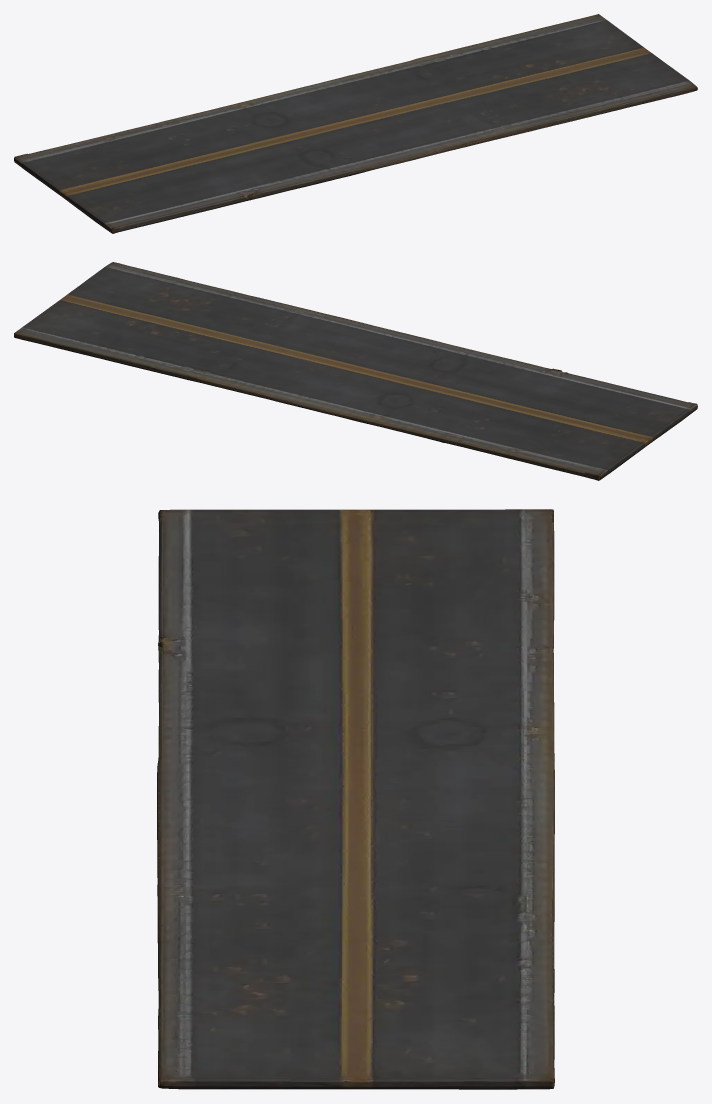
The model's file is road_straight.glb.
3 views of the same model, one above another, from view 1: azimuth 30°, elevation 25°; view 2: azimuth 150°, elevation 25°; view 3: azimuth 270°, elevation 25° (orthographic). The views are drawn at different scales.
Parts seen in each view (by area): view 1: geometry_0; view 2: geometry_0; view 3: geometry_0.
Part boxes in pixels (x1,y1,x2,y2): geometry_0: (14, 14, 697, 233); geometry_0: (14, 262, 697, 480); geometry_0: (157, 509, 554, 1089).
Size of the model in its own units: 1 by 0.00905 by 0.2944.
1 material, 1 textured.
